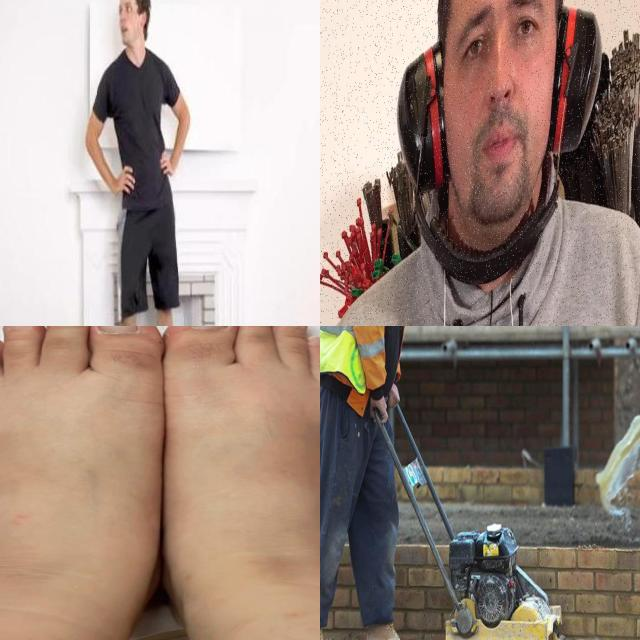Barefoots: (0, 326, 320, 620)
Ear-protection: (396, 2, 602, 197)
No_Ear-Protection: (139, 4, 152, 34)
No_Glasses: (448, 0, 550, 79)
face_nomask: (112, 17, 137, 43)
hand_noglove: (104, 155, 144, 202), (370, 387, 392, 438)
person: (320, 0, 640, 326), (83, 0, 191, 326), (320, 326, 429, 640)
shoes: (358, 610, 424, 640)
vest: (320, 326, 393, 391)
